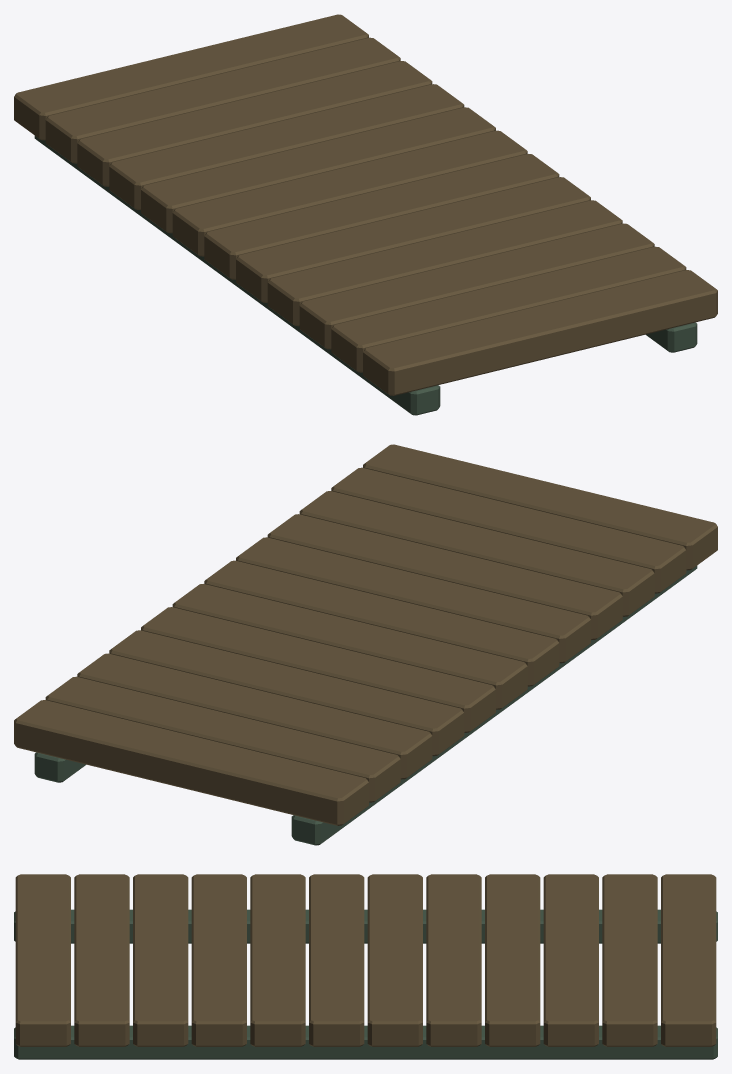
File: bridge.glb
The picture shows the model from 3 angles, top to bottom: view 1: azimuth 30°, elevation 25°; view 2: azimuth 150°, elevation 25°; view 3: azimuth 270°, elevation 25°; orthographic projection. The views are drawn at different scales.
Parts seen in each view (by area): view 1: bridge__body; view 2: bridge__body; view 3: bridge__body.
Part boxes in pixels (left/top/right/bottom): bridge__body: left=14, top=14, right=717, bottom=415; bridge__body: left=14, top=444, right=717, bottom=845; bridge__body: left=14, top=874, right=717, bottom=1059.
Bounding box in the file's own units: 2 × 0.3 × 4.
